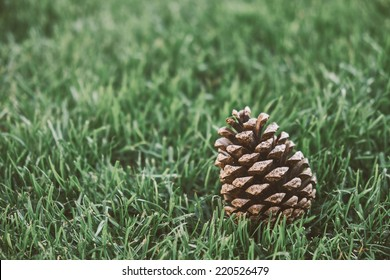Pc: (210, 109, 320, 226)
